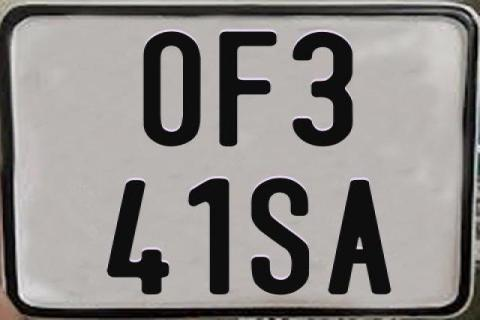0: (289, 30, 352, 148), (142, 30, 206, 146), (108, 178, 170, 296), (188, 178, 235, 294)
A: (327, 180, 391, 299)
F: (217, 32, 275, 150)
S: (249, 178, 313, 300)
